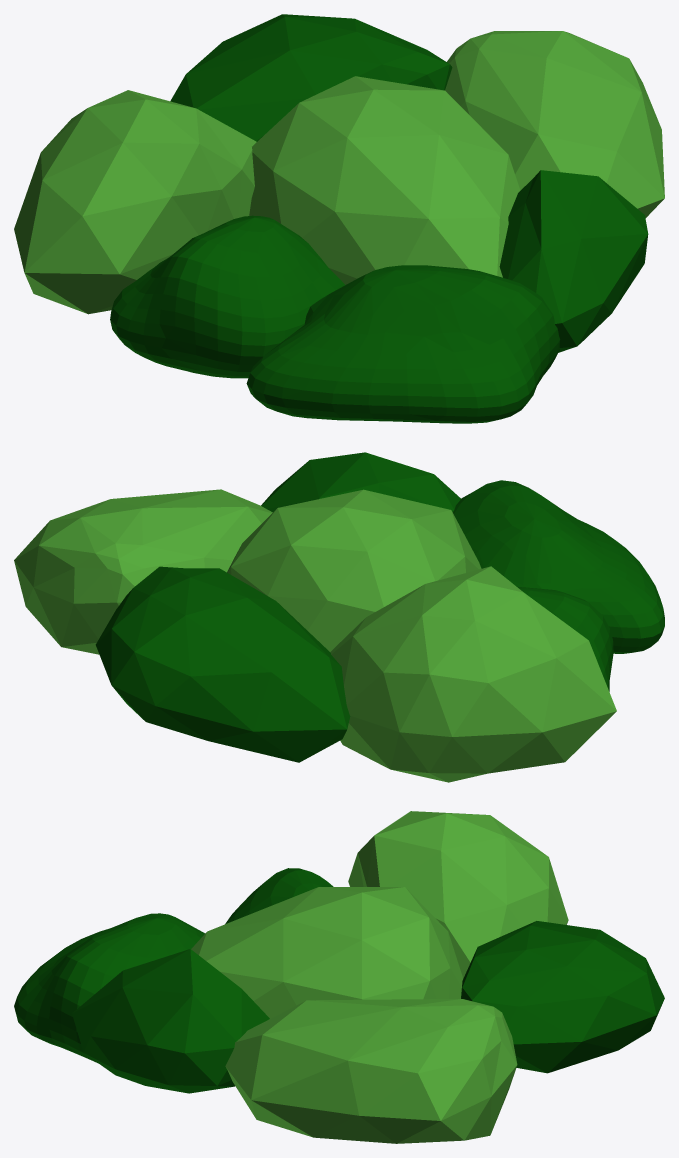
Rendered from Arbusto_4.fbx.
The picture shows the model from 3 angles, top to bottom: view 1: azimuth 30°, elevation 25°; view 2: azimuth 150°, elevation 25°; view 3: azimuth 270°, elevation 25°; orthographic projection. The views are drawn at different scales.
Parts seen in each view (by area): view 1: Arbusto_4; view 2: Arbusto_4; view 3: Arbusto_4.
Boxes of the visible parts, x1,y1,x2,y2 form: Arbusto_4: (14, 14, 664, 423); Arbusto_4: (14, 452, 664, 782); Arbusto_4: (14, 811, 664, 1143).
Size of the model in its own units: 1236 by 398 by 1220.
